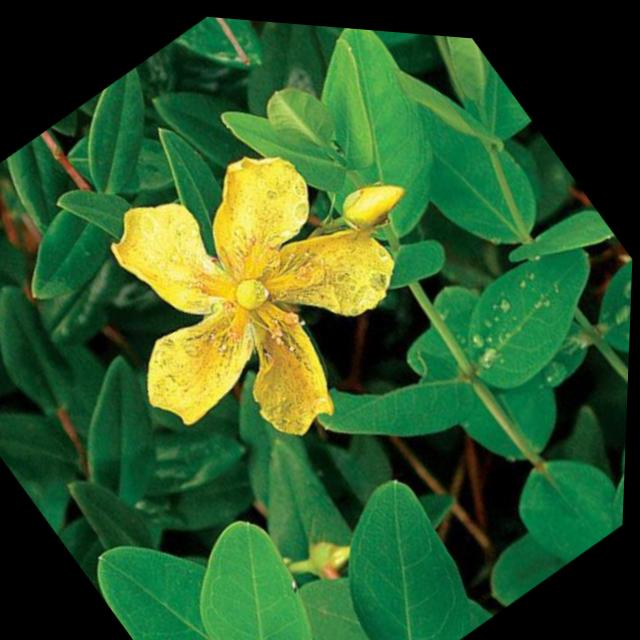Flower: (49, 71, 482, 511)
